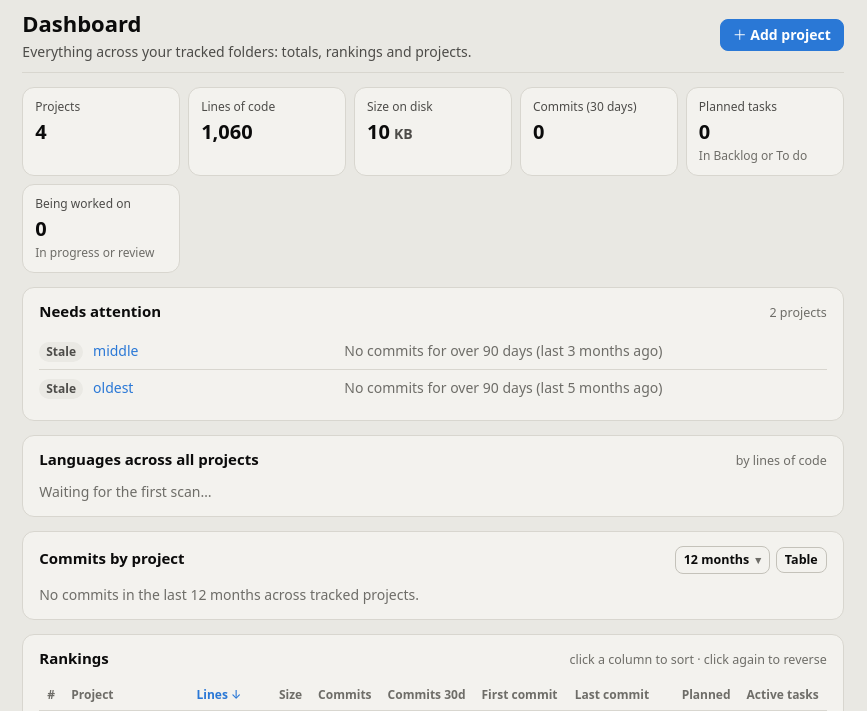
Scenario: Rankings table › sorts by first commit both ways, with projects lacking history always last
This screenshot has width=867, height=711.
Click the button "First commit". click: (520, 695)
box: [482, 686, 558, 704]
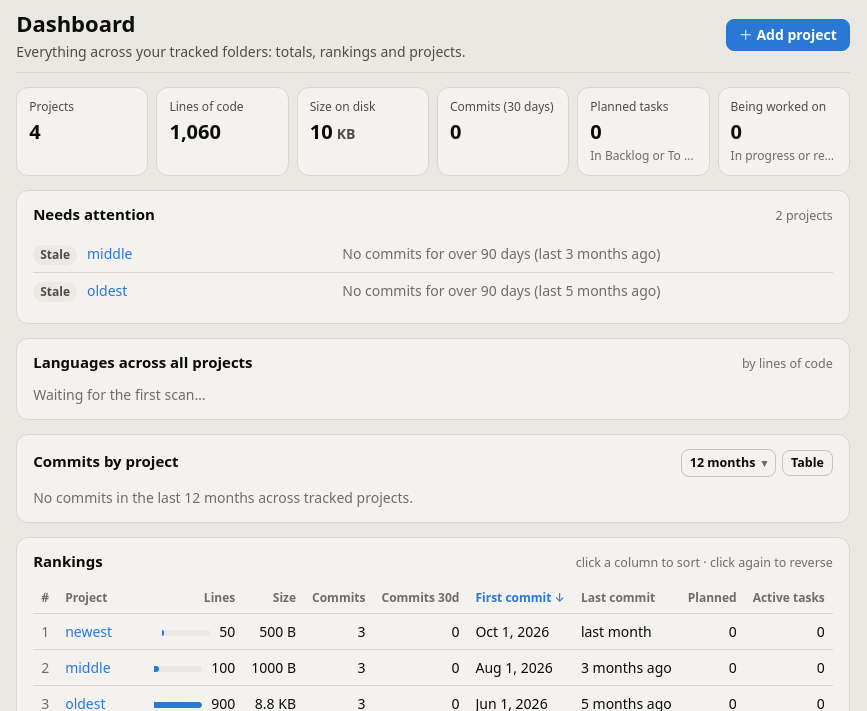
Expected: the column heading "First commit ↓" is shown, [467, 583, 573, 614]
Click the button "First commit ↓". click: (520, 598)
box: [475, 589, 565, 607]
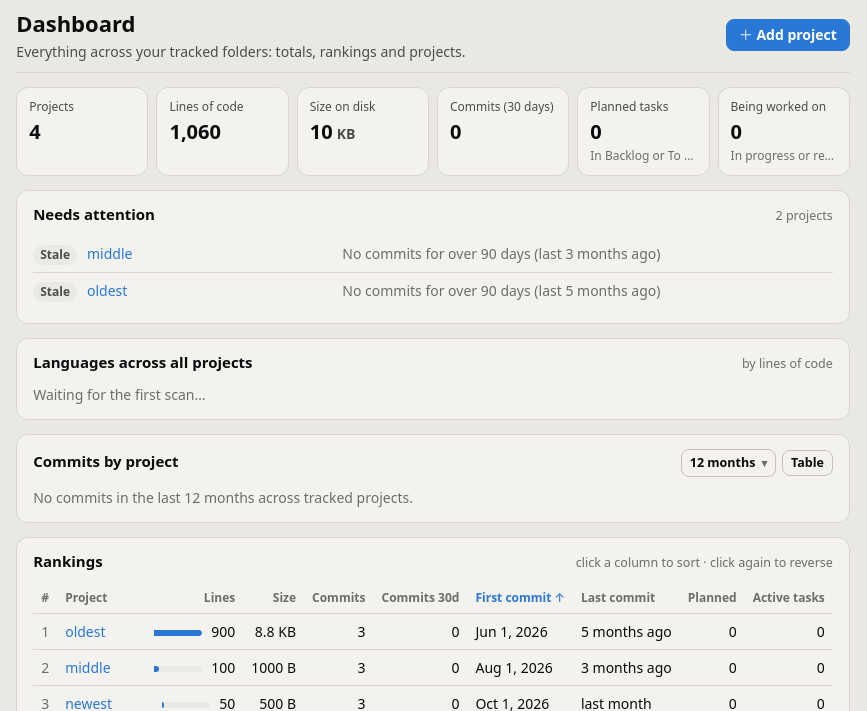
Expected: the column heading "First commit ↑" is shown, [467, 583, 573, 614]
